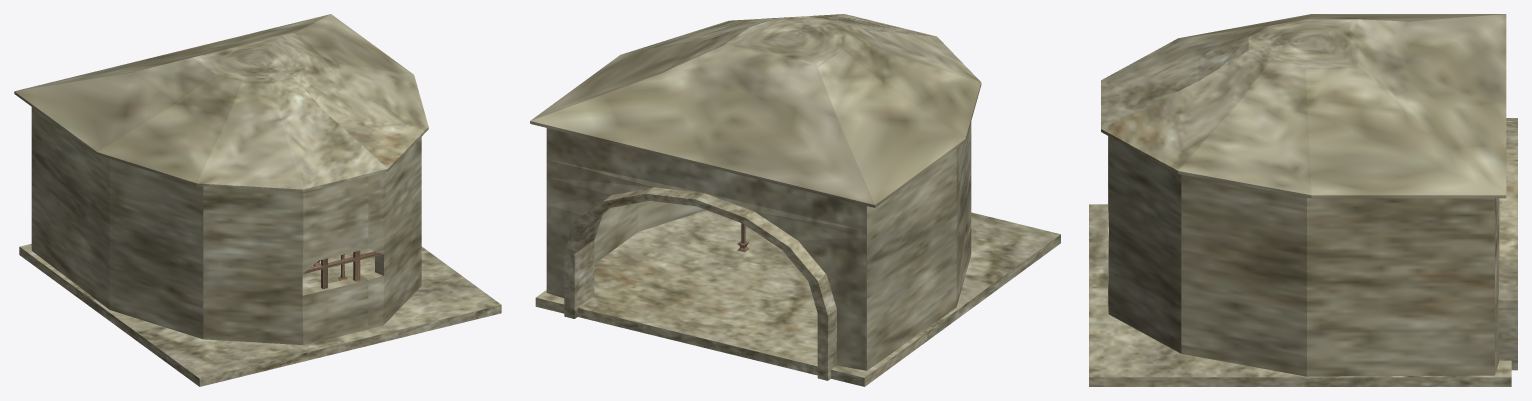
File: shrine.obj
3 views of the same model, side by side, from view 1: azimuth 30°, elevation 25°; view 2: azimuth 150°, elevation 25°; view 3: azimuth 270°, elevation 25° (orthographic). The views are drawn at different scales.
Parts seen in each view (by area): view 1: shrine; view 2: shrine; view 3: shrine.
Part boxes in pixels (x1,y1,x2,y2): shrine: (14, 14, 501, 386); shrine: (530, 14, 1060, 386); shrine: (1089, 14, 1517, 386).
Size of the model in its own units: 3 by 2 by 3.
1 material, 1 textured.
